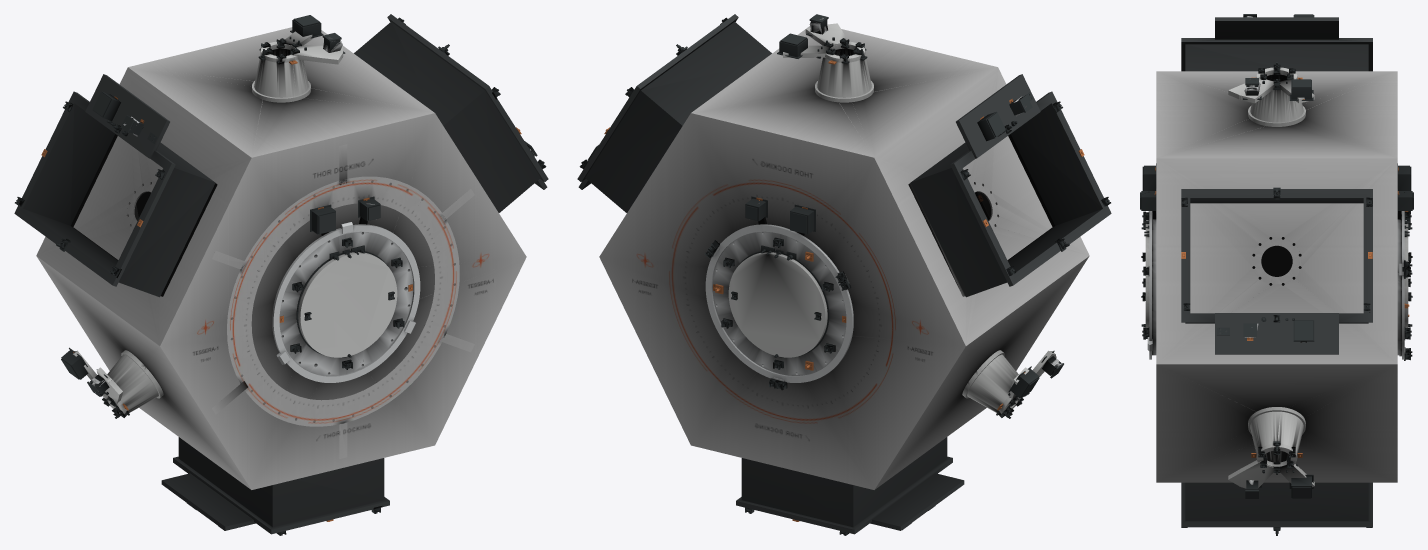
The model's file is tessera.glb.
The picture shows the model from 3 angles, left to right: view 1: azimuth 30°, elevation 25°; view 2: azimuth 150°, elevation 25°; view 3: azimuth 270°, elevation 25°; orthographic projection. The views are drawn at different scales.
Parts seen in each view (by area): view 1: TES1 Tessera Core.017, TES1 Tessera Core.018, TES1 Tessera Core.016, TES1 Tessera Core.019, TES1 Tessera Core.020, TES1 Tessera Core.022, TES1 Tessera Core.005, TES1 Tessera Core.015, TES1 Tessera Core.003; view 2: TES1 Tessera Core.017, TES1 Tessera Core.018, TES1 Tessera Core.019, TES1 Tessera Core.020, TES1 Tessera Core.022, TES1 Tessera Core.005, TES1 Tessera Core.015, TES1 Tessera Core.003; view 3: TES1 Tessera Core.017, TES1 Tessera Core.018, TES1 Tessera Core.022, TES1 Tessera Core.019, TES1 Tessera Core.015, TES1 Tessera Core.005, TES1 Tessera Core.003, TES1 Tessera Core.025, TES1 Tessera Core.020, TES1 Tessera Core.001.
Boxes of the visible parts, x1,y1,x2,y2 form: TES1 Tessera Core.017: [36, 27, 526, 489]; TES1 Tessera Core.018: [14, 14, 548, 534]; TES1 Tessera Core.016: [212, 144, 474, 458]; TES1 Tessera Core.019: [272, 222, 420, 382]; TES1 Tessera Core.020: [71, 134, 397, 357]; TES1 Tessera Core.022: [73, 31, 343, 413]; TES1 Tessera Core.005: [15, 17, 546, 535]; TES1 Tessera Core.015: [61, 19, 380, 379]; TES1 Tessera Core.003: [61, 15, 537, 530]; TES1 Tessera Core.017: [599, 26, 1089, 489]; TES1 Tessera Core.018: [577, 14, 1111, 534]; TES1 Tessera Core.019: [705, 224, 853, 382]; TES1 Tessera Core.020: [728, 134, 1054, 357]; TES1 Tessera Core.022: [783, 23, 1056, 413]; TES1 Tessera Core.005: [579, 17, 1110, 535]; TES1 Tessera Core.015: [588, 33, 1054, 398]; TES1 Tessera Core.003: [588, 14, 1063, 530]; TES1 Tessera Core.017: [1156, 71, 1397, 482]; TES1 Tessera Core.018: [1181, 17, 1372, 527]; TES1 Tessera Core.022: [1228, 67, 1314, 488]; TES1 Tessera Core.019: [1147, 211, 1405, 359]; TES1 Tessera Core.015: [1141, 15, 1412, 497]; TES1 Tessera Core.005: [1141, 64, 1412, 530]; TES1 Tessera Core.003: [1140, 14, 1413, 498]; TES1 Tessera Core.025: [1252, 237, 1301, 285]; TES1 Tessera Core.020: [1145, 223, 1408, 327]; TES1 Tessera Core.001: [1216, 16, 1258, 489].
Size of the model in its own units: 1.27 by 1.21 by 0.6627.
26 materials, 2 textured.
